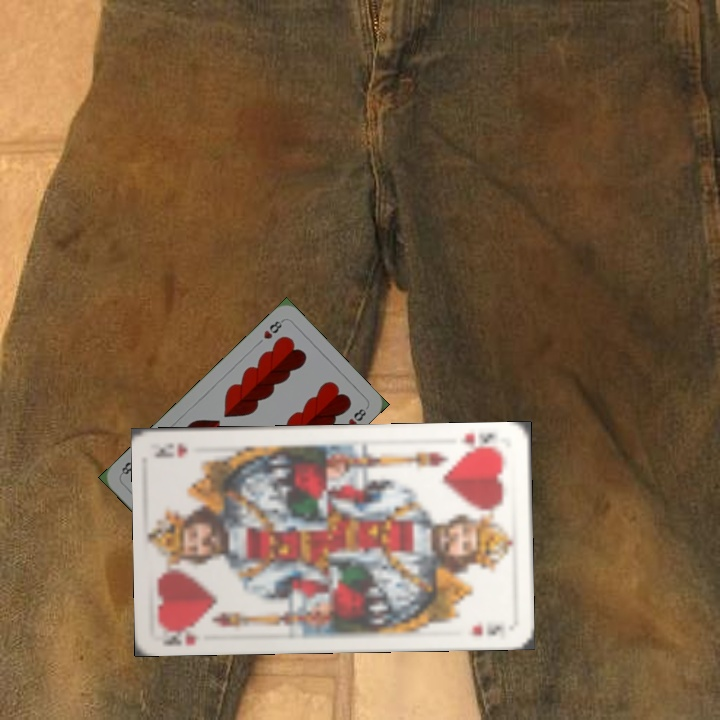H8: (259, 316, 286, 342)
HK: (159, 620, 203, 647), (456, 429, 497, 456)
